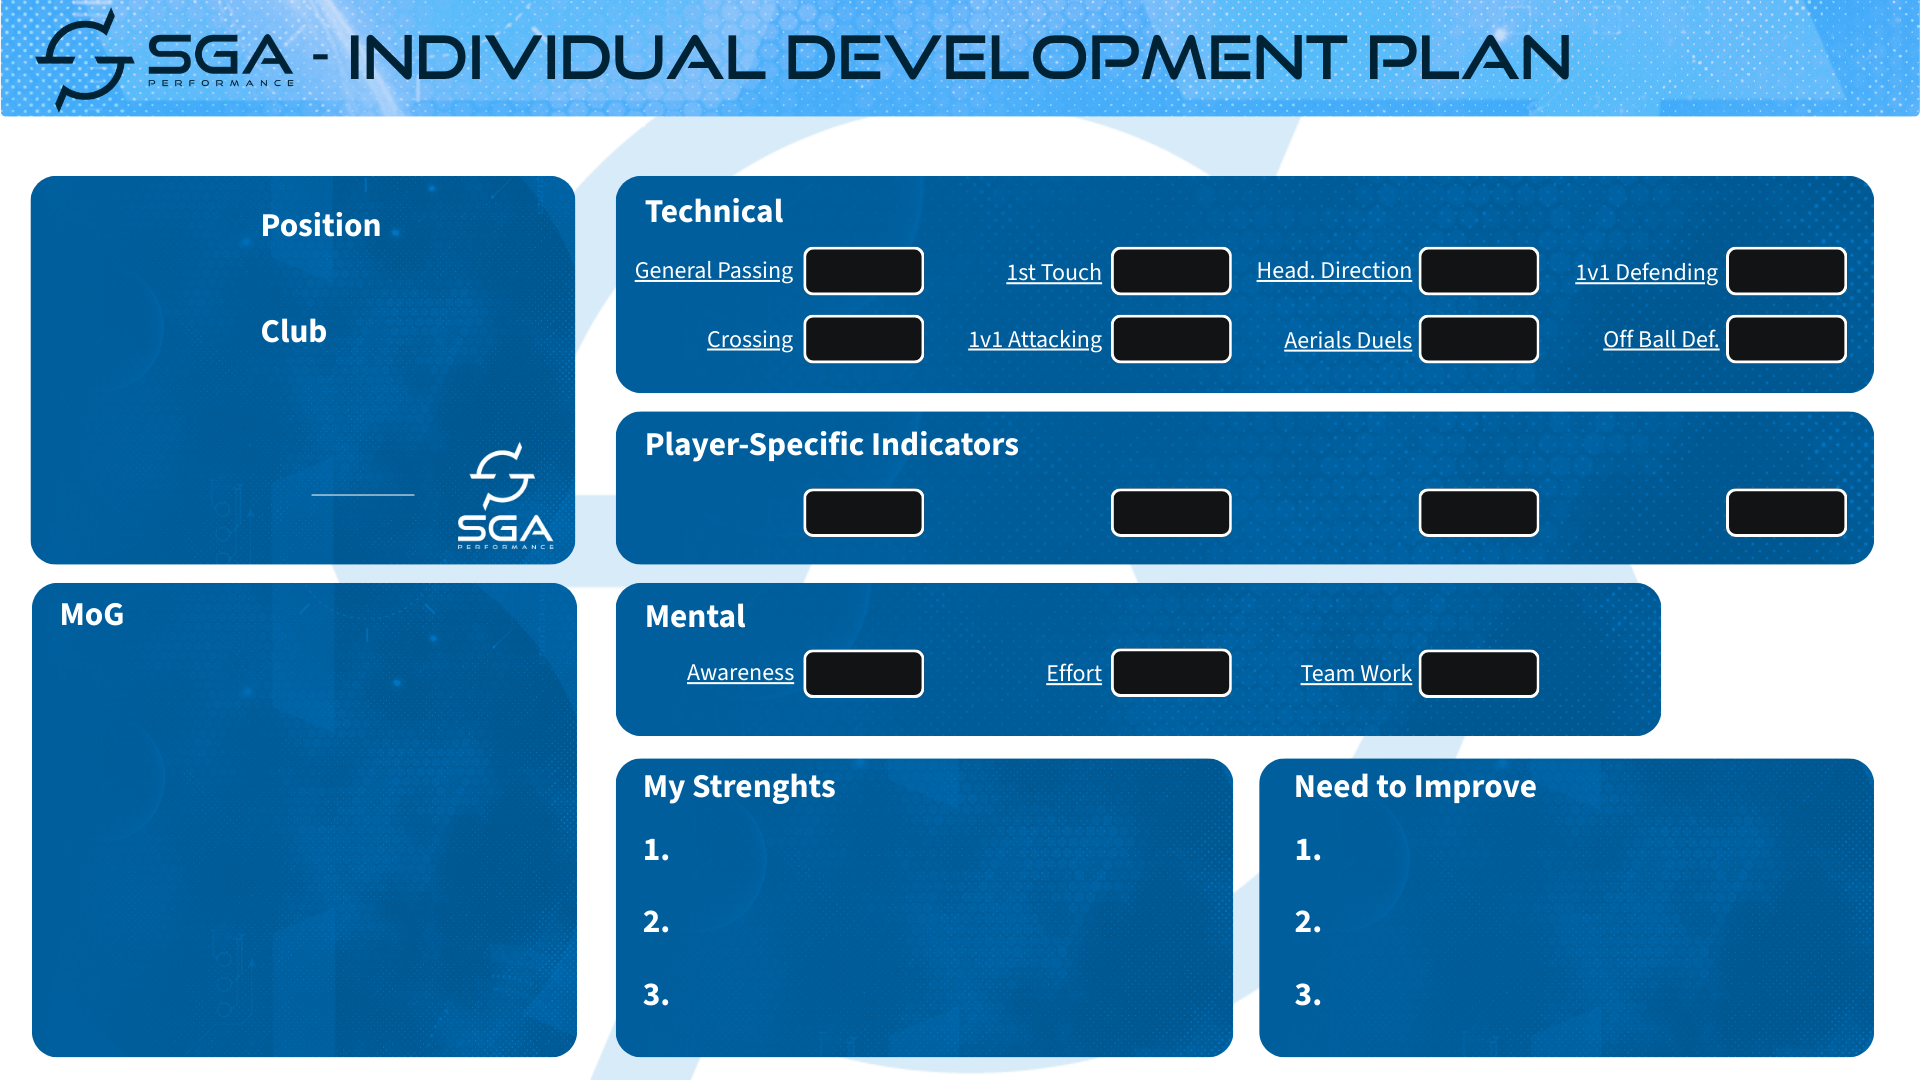

This screenshot's page, from the dashboard's own definition file:
{"tool":"powerbi","page":{"name":"Duplicata de Capa","canvas":[1280,720],"ordinal":1},"visuals":[{"type":"shape","box":[947.3,326.7,78,30],"z":0},{"type":"shape","box":[537.3,326.9,77.3,30],"z":1000},{"type":"shape","box":[741.8,326.9,78.2,30],"z":2000},{"type":"shape","box":[1152,327.3,78,30],"z":3000},{"type":"card","fields":{"Values":["Min(Tb_PSIGrades.1st PSI)"]},"box":[519.1,327.8,113.6,31.8],"z":4000},{"type":"card","fields":{"Values":["Min(Tb_PSIGrades.2nd PSI)"]},"box":[724.5,326.9,112.7,32.7],"z":5000},{"type":"shape","box":[947,434,78,30],"z":6000},{"type":"shape","box":[742.4,434,78,30],"z":7000},{"type":"shape","box":[537.3,434.9,77.3,29.1],"z":8000},{"type":"card","fields":{"Values":["Min(Player_Grades.Team Work)"]},"box":[930,435,112,31],"z":9000},{"type":"card","fields":{"Values":["Min(Player_Grades.Effort)"]},"box":[724,435,113,32],"z":10000},{"type":"card","fields":{"Values":["Min(Player_Grades.Awareness)"]},"box":[520,434,112.7,32.7],"z":11000},{"type":"shape","box":[947.3,210.7,78,30],"z":12000},{"type":"shape","box":[947,166,78,30],"z":13000},{"type":"card","fields":{"Values":["Min(Player_Grades.Shoting)"]},"box":[930,167,112,31],"z":14000},{"type":"card","fields":{"Values":["Min(Player_Grades.Heading)"]},"box":[931,212,112,32],"z":15000},{"type":"shape","box":[537.3,210.9,77.3,30],"z":16000},{"type":"shape","box":[741.8,210.9,78.2,30],"z":17000},{"type":"shape","box":[1152.3,166,78,30],"z":18000},{"type":"shape","box":[1152,211.3,78,30],"z":19000},{"type":"shape","box":[742.4,166,78,30],"z":20000},{"type":"shape","box":[537.3,166.4,77.3,29.1],"z":21000},{"type":"card","fields":{"Values":["Min(Player_Grades.Off Ball Defending)"]},"box":[1135,212,112,32],"z":22000},{"type":"card","fields":{"Values":["Min(Player_Grades.1v1 Defending)"]},"box":[1135,166,112.7,32.7],"z":23000},{"type":"card","fields":{"Values":["Min(Player_Grades.1st Touch)"]},"box":[725,166,113,32],"z":24000},{"type":"card","fields":{"Values":["Min(Player_Grades.Crossing)"]},"box":[519.1,211.8,113.6,31.8],"z":25000},{"type":"card","fields":{"Values":["Min(Player_Grades.General Passing)"]},"box":[520,165.5,112.7,32.7],"z":26000},{"type":"card","fields":{"Values":["Min(Player_Grades.1v1 Attacking)"]},"box":[725,211,112,33],"z":27000},{"type":"cardVisual","fields":{"Data":["Min(Player_Grades.Position)"]},"box":[160,136,224,77],"z":28000},{"type":"cardVisual","fields":{"Data":["Min(Atletas.Club)"]},"box":[160,205,224,75],"z":29000},{"type":"slicer","fields":{"Values":["Player_Grades.Player"]},"box":[11,85,383,49],"z":30000},{"type":"image","box":[21,128,149,249],"z":31000},{"type":"radarChart","fields":{"category":["Tb_Radar.Índice"],"measure":["Sum(Tb_Radar.Valor)"]},"box":[3.9,395.9,397.8,323.9],"z":32000},{"type":"cardVisual","fields":{"Data":["Min(Tb_Strenghts.1)"]},"box":[432,526,384,76],"z":33000},{"type":"cardVisual","fields":{"Data":["Min(Tb_Strenghts.2)"]},"box":[432,574,384,76],"z":34000},{"type":"cardVisual","fields":{"Data":["Min(Tb_Strenghts.3)"]},"box":[432,623,384,77],"z":35000},{"type":"cardVisual","fields":{"Data":["Min(Tb_Improve.1)"]},"box":[866,526,385,76],"z":36000},{"type":"cardVisual","fields":{"Data":["Min(Tb_Improve.2)"]},"box":[866,575,385,74],"z":37000},{"type":"cardVisual","fields":{"Data":["Min(Tb_Improve.3)"]},"box":[866,623,385,76],"z":38000},{"type":"card","fields":{"Values":["Min(Tb_PSIGrades.3rd PSI)"]},"box":[931,328,112,32],"z":39000},{"type":"card","fields":{"Values":["Min(Tb_PSIGrades.4th PSI)"]},"box":[1135,328,112,32],"z":40000},{"type":"cardVisual","fields":{"Data":["Min(Tb_PSI.1st PSI)"]},"box":[425,303,121,77],"z":41000},{"type":"cardVisual","fields":{"Data":["Min(Tb_PSI.2nd PSI)"]},"box":[627,303,123,77],"z":42000},{"type":"cardVisual","fields":{"Data":["Min(Tb_PSI.3rd PSI)"]},"box":[827,304,120,77],"z":43000},{"type":"cardVisual","fields":{"Data":["Min(Tb_PSI.4th PSI)"]},"box":[1027,304,125,77],"z":44000}]}

Visuals, with their boxes in screenshot pixels (x1, y1, x2, y2), scaled from the page's 1280x720 canvas onto the 1920x1080 screenshot:
shape: [1421,490,1538,535]
shape: [806,490,922,535]
shape: [1113,490,1230,535]
shape: [1728,491,1845,536]
card - Min(Tb_PSIGrades.1st PSI): [779,492,949,539]
card - Min(Tb_PSIGrades.2nd PSI): [1087,490,1256,539]
shape: [1420,651,1538,696]
shape: [1114,651,1231,696]
shape: [806,652,922,696]
card - Min(Player_Grades.Team Work): [1395,652,1563,699]
card - Min(Player_Grades.Effort): [1086,652,1256,700]
card - Min(Player_Grades.Awareness): [780,651,949,700]
shape: [1421,316,1538,361]
shape: [1420,249,1538,294]
card - Min(Player_Grades.Shoting): [1395,250,1563,297]
card - Min(Player_Grades.Heading): [1396,318,1564,366]
shape: [806,316,922,361]
shape: [1113,316,1230,361]
shape: [1728,249,1845,294]
shape: [1728,317,1845,362]
shape: [1114,249,1231,294]
shape: [806,250,922,293]
card - Min(Player_Grades.Off Ball Defending): [1702,318,1870,366]
card - Min(Player_Grades.1v1 Defending): [1702,249,1872,298]
card - Min(Player_Grades.1st Touch): [1088,249,1257,297]
card - Min(Player_Grades.Crossing): [779,318,949,365]
card - Min(Player_Grades.General Passing): [780,248,949,297]
card - Min(Player_Grades.1v1 Attacking): [1088,316,1256,366]
cardVisual - Min(Player_Grades.Position): [240,204,576,320]
cardVisual - Min(Atletas.Club): [240,308,576,420]
slicer - Player_Grades.Player: [16,128,591,201]
image: [32,192,255,566]
radarChart - Tb_Radar.Índice x Sum(Tb_Radar.Valor): [6,594,603,1079]
cardVisual - Min(Tb_Strenghts.1): [648,789,1224,903]
cardVisual - Min(Tb_Strenghts.2): [648,861,1224,975]
cardVisual - Min(Tb_Strenghts.3): [648,934,1224,1050]
cardVisual - Min(Tb_Improve.1): [1299,789,1876,903]
cardVisual - Min(Tb_Improve.2): [1299,862,1876,974]
cardVisual - Min(Tb_Improve.3): [1299,934,1876,1048]
card - Min(Tb_PSIGrades.3rd PSI): [1396,492,1564,540]
card - Min(Tb_PSIGrades.4th PSI): [1702,492,1870,540]
cardVisual - Min(Tb_PSI.1st PSI): [638,454,819,570]
cardVisual - Min(Tb_PSI.2nd PSI): [940,454,1125,570]
cardVisual - Min(Tb_PSI.3rd PSI): [1240,456,1420,572]
cardVisual - Min(Tb_PSI.4th PSI): [1540,456,1728,572]
